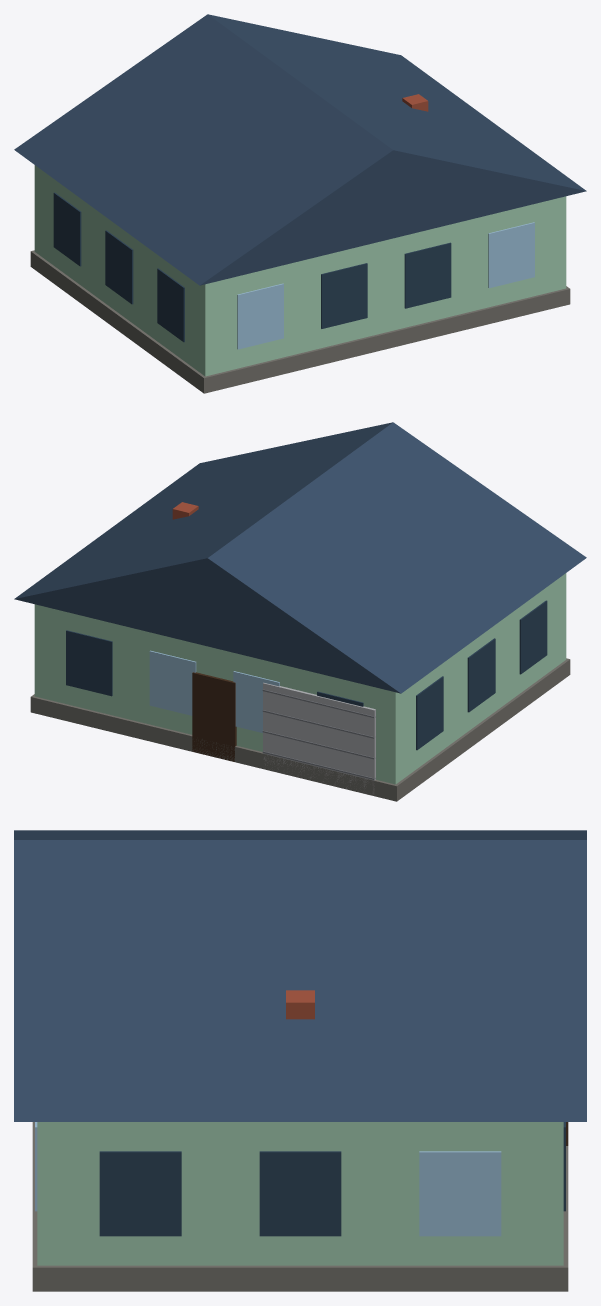
File: bld_house_c.glb
The picture shows the model from 3 angles, top to bottom: view 1: azimuth 30°, elevation 25°; view 2: azimuth 150°, elevation 25°; view 3: azimuth 270°, elevation 25°; orthographic projection. The views are drawn at different scales.
Parts seen in each view (by area): view 1: bld_house_c__mesh; view 2: bld_house_c__mesh; view 3: bld_house_c__mesh.
Part boxes in pixels (left/top/right/bottom): bld_house_c__mesh: left=14, top=14, right=586, bottom=393; bld_house_c__mesh: left=14, top=422, right=586, bottom=801; bld_house_c__mesh: left=14, top=830, right=586, bottom=1291.
Size of the model in its own units: 11.8 by 5.92 by 9.8.
